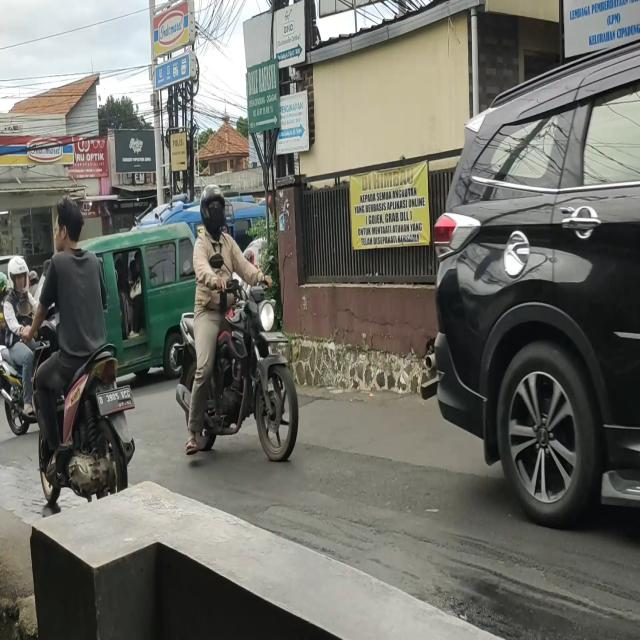helmet: (198, 185, 226, 233), (5, 254, 28, 294)
no-helmet: (56, 205, 82, 249)
